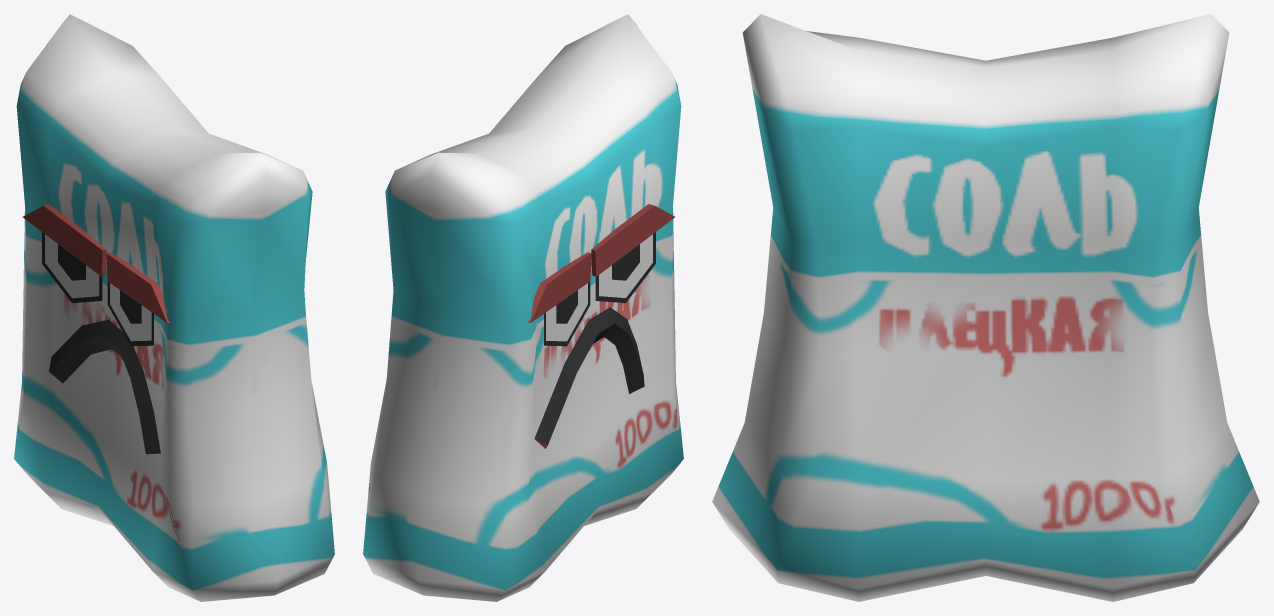
File: Salt.fbx
3 views of the same model, side by side, from view 1: azimuth 30°, elevation 25°; view 2: azimuth 150°, elevation 25°; view 3: azimuth 270°, elevation 25° (orthographic). The views are drawn at different scales.
Visible parts, largest first — view 1: salt; view 2: salt; view 3: salt.
Part boxes in pixels (bbox=[...]): salt: bbox=[14, 14, 334, 601]; salt: bbox=[363, 14, 683, 601]; salt: bbox=[712, 14, 1259, 601].
Bounding box in the file's own units: 2.58 × 5.87 × 6.49.
4 materials, 1 textured.
